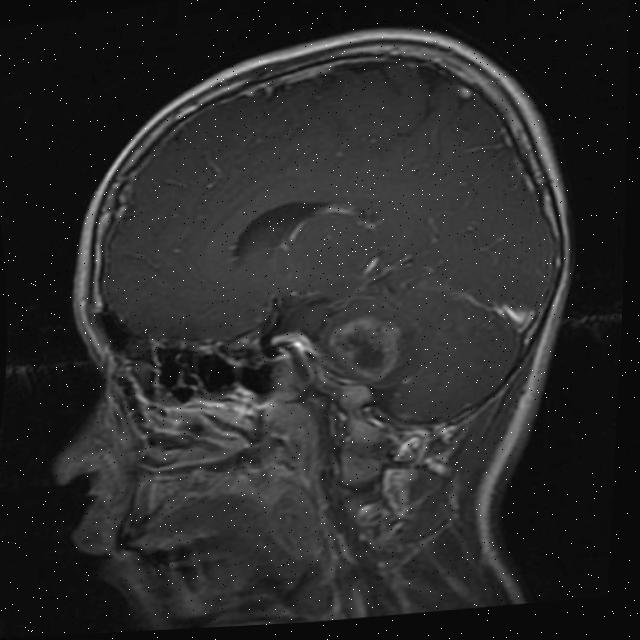Glioma: (325, 311, 405, 388)
